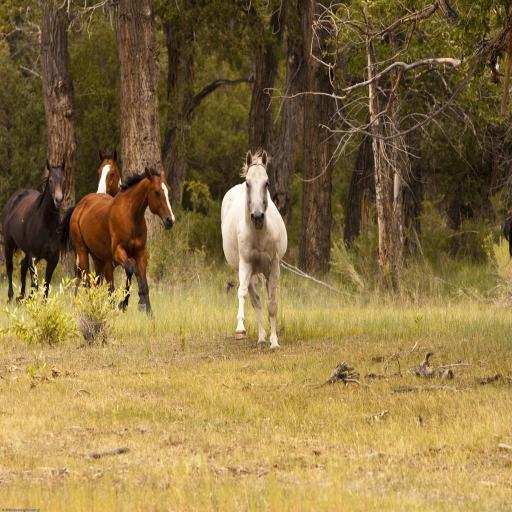horse: (60, 166, 176, 320), (219, 146, 288, 352), (0, 160, 68, 304), (91, 147, 125, 303)
